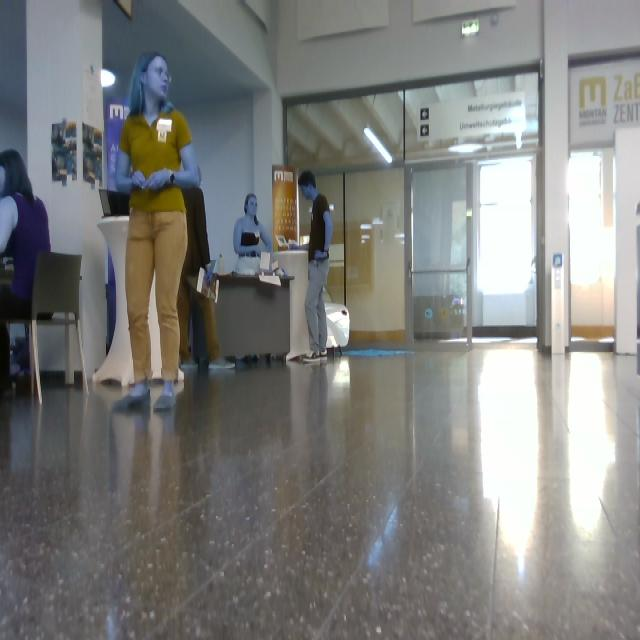desk: (214, 276, 293, 359)
door: (283, 64, 539, 348), (301, 197, 309, 239)
light bulb: (363, 125, 391, 163), (101, 68, 115, 85)
person: (117, 53, 198, 408), (0, 149, 50, 380), (177, 187, 236, 375), (298, 171, 332, 361), (233, 193, 271, 273)
pillar: (26, 0, 106, 376), (541, 0, 569, 353), (38, 327, 66, 370), (70, 326, 82, 372)
table: (5, 252, 89, 410), (98, 216, 133, 385), (273, 249, 309, 357), (149, 280, 159, 377)
tiled floor: (0, 345, 639, 639)
